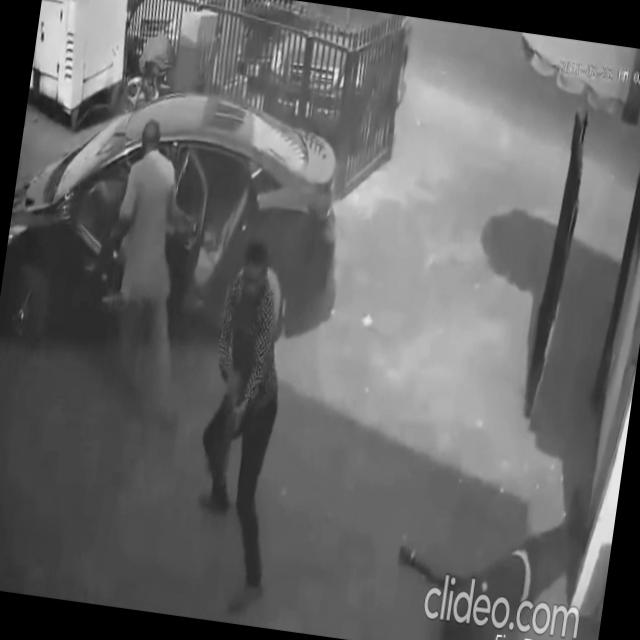gun: (212, 359, 246, 486)
person: (86, 113, 220, 435), (383, 464, 590, 640)
person with a gun: (175, 234, 314, 620)
